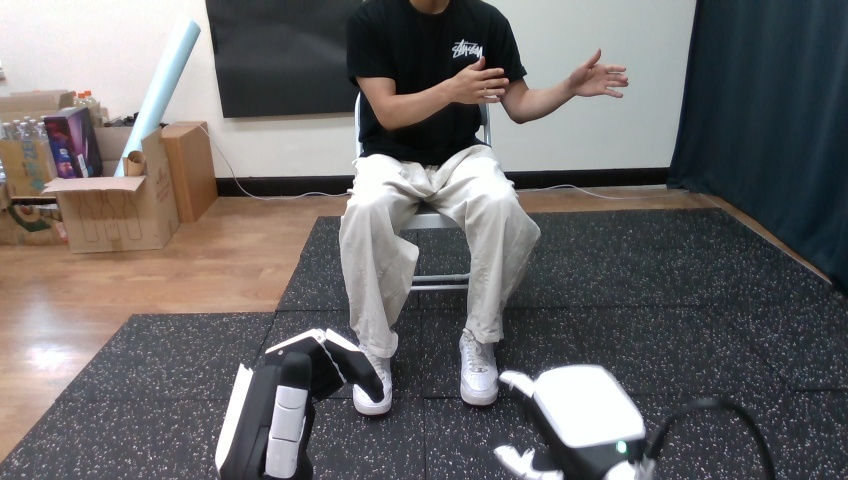left robot arm: (215, 329, 383, 479), (265, 352, 311, 478)
left robot hand: (215, 329, 383, 479), (568, 49, 627, 97), (450, 57, 508, 103)
right robot arm: (215, 329, 383, 479)
right robot hand: (568, 49, 627, 97), (450, 57, 508, 103)
